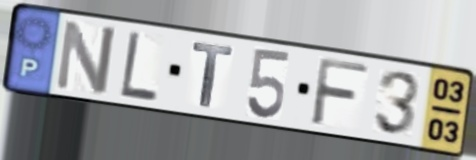3: (373, 70, 422, 137)
5: (245, 47, 292, 121)
F: (307, 54, 372, 130)
L: (117, 28, 160, 104)
N: (51, 17, 120, 97)
T: (190, 40, 235, 110)
